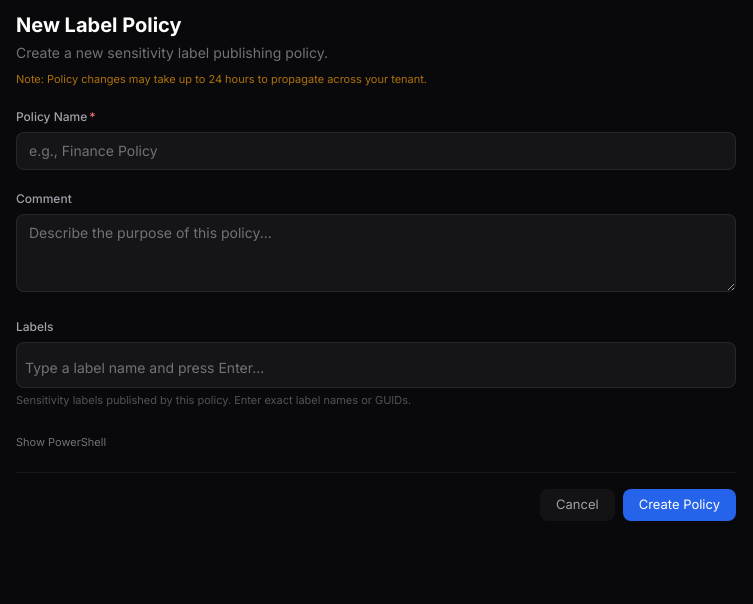
PolicyForm › New Policy mode › shows error on save failure
Step 1. Type "Test Policy" into the field with placeholder "e.g., Finance Policy" → [376, 150], box left=16, top=132, right=736, bottom=170
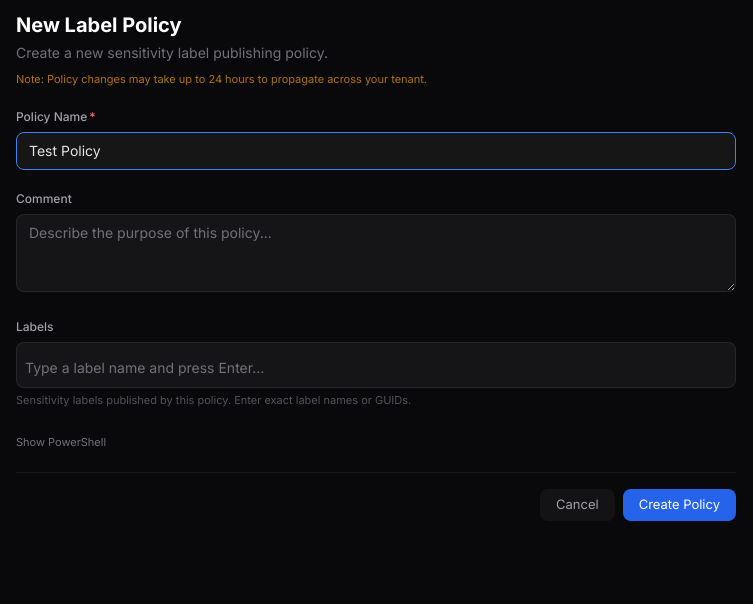
Step 2. Click the button "Create Policy" → [679, 505], box left=623, top=489, right=736, bottom=520
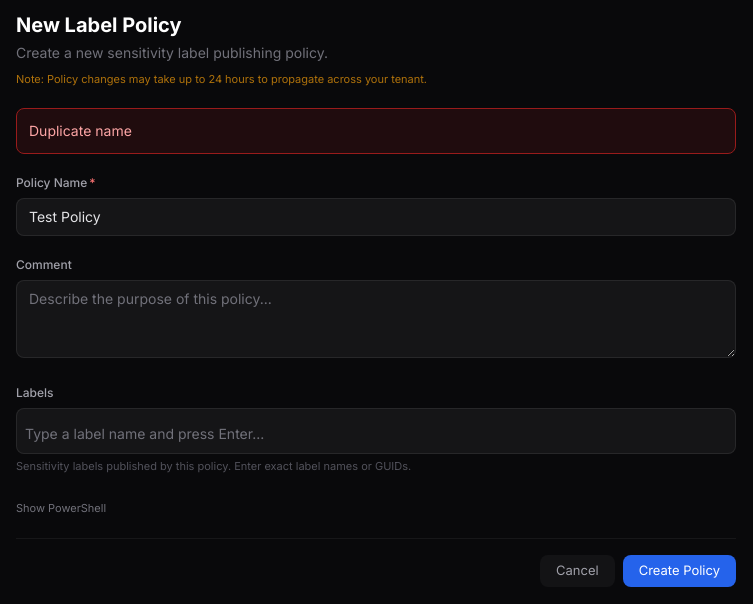
Check: the text "Duplicate name" is shown, box left=16, top=108, right=736, bottom=154
